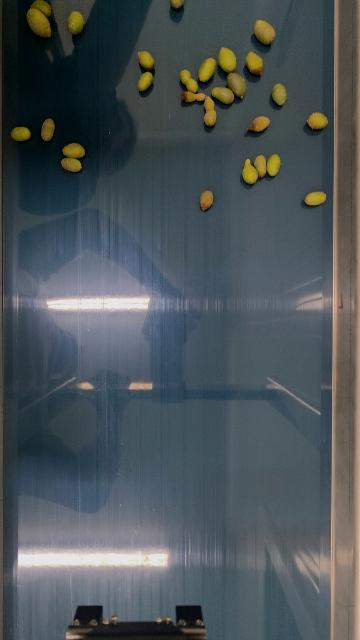Baby Potato: (26, 7, 54, 39), (253, 19, 276, 46), (226, 71, 248, 98), (217, 46, 239, 73), (66, 9, 86, 36), (197, 56, 217, 83), (179, 68, 200, 93), (270, 81, 289, 107), (203, 95, 218, 127), (61, 141, 86, 160), (211, 86, 236, 105), (246, 50, 264, 76), (39, 117, 57, 142), (136, 49, 156, 70), (249, 114, 271, 133), (307, 111, 329, 130), (60, 156, 84, 173), (242, 157, 257, 184), (304, 190, 327, 207), (137, 70, 154, 92), (10, 125, 32, 142), (253, 154, 267, 180), (31, 0, 53, 16), (266, 153, 281, 176), (181, 90, 206, 103), (199, 190, 214, 210), (168, 0, 186, 10)
